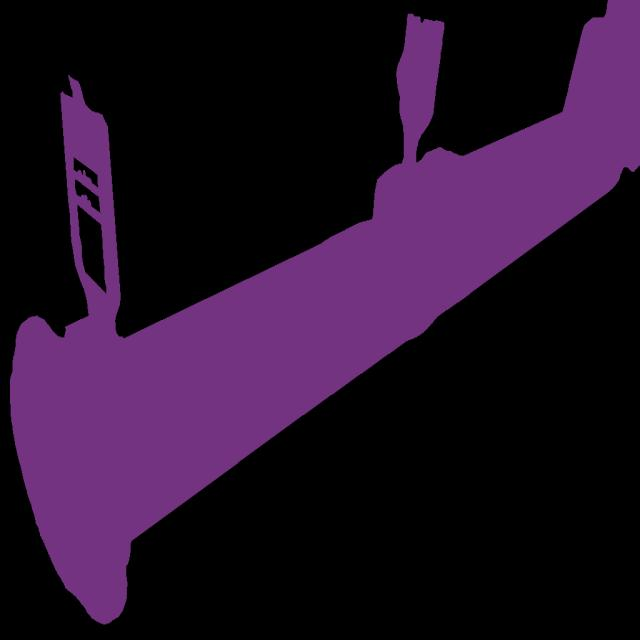rocket: (7, 0, 640, 628)
